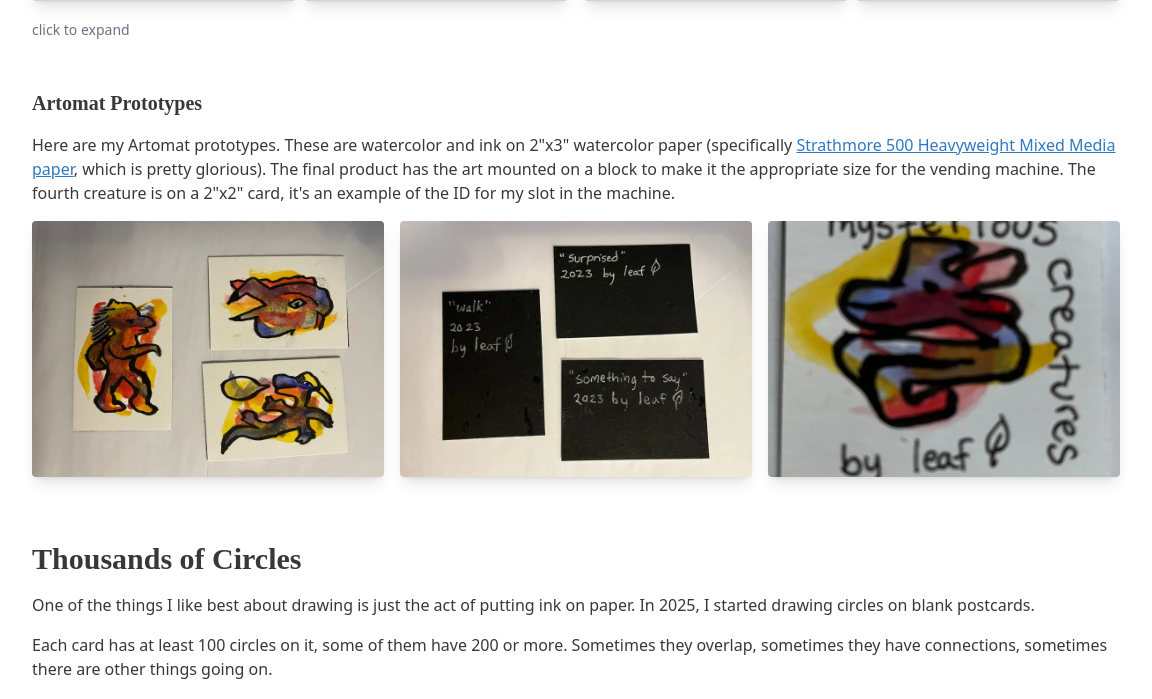
Test: Art Page › Lightbox Functionality › navigates to previous image when previous button is clicked
(page scrolled)
Click the picture with alt text "IMG 62" at (208, 349), box x1=32 y1=221 x2=384 y2=477
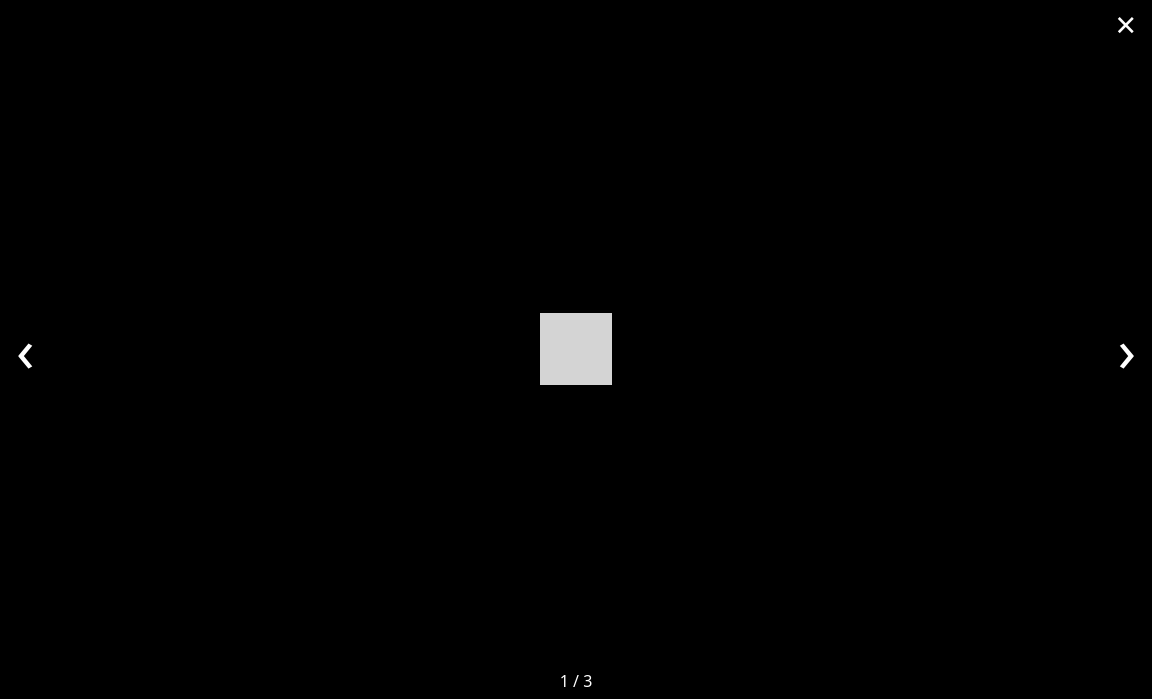
Click the button named "Previous image" at (25, 349), box x1=16 y1=319 x2=35 y2=379
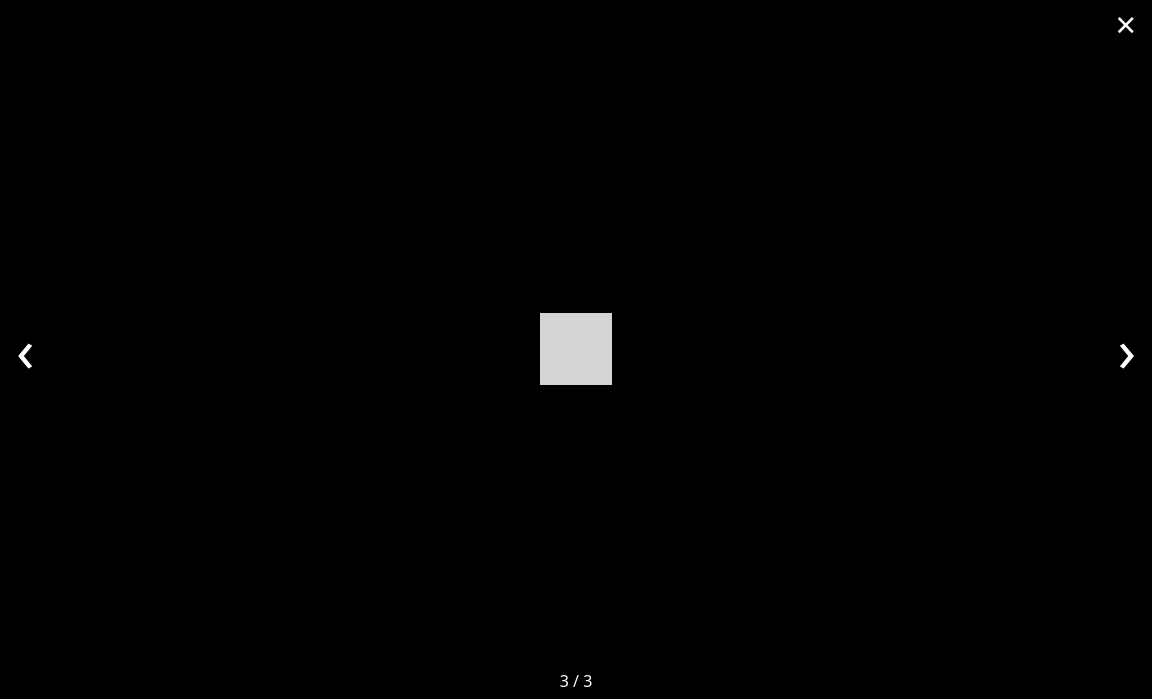
Result: the text "3 / 3" is shown at x1=560 y1=669 x2=592 y2=693
